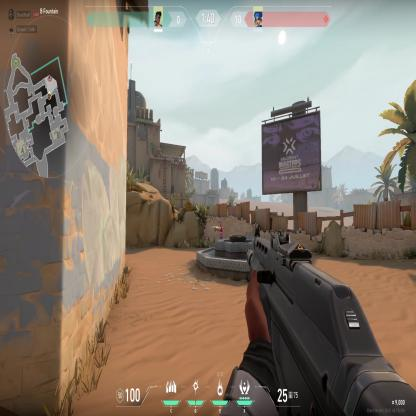enemy: (215, 220, 223, 239)
